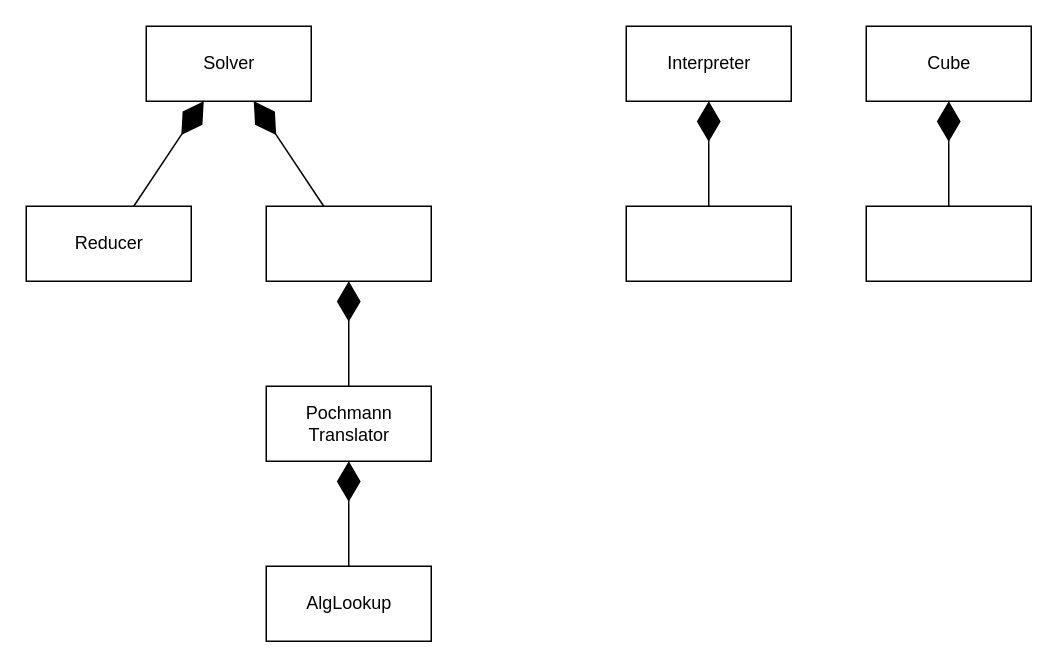
Image size: 1058x668. Some labels were removed from this diagram. Here are the shapes that lost their labels. From the top down, the centre of each, then its label:
the point at 348,243: Pochmann
the point at 708,243: MoveTranslator
the point at 948,243: Block
